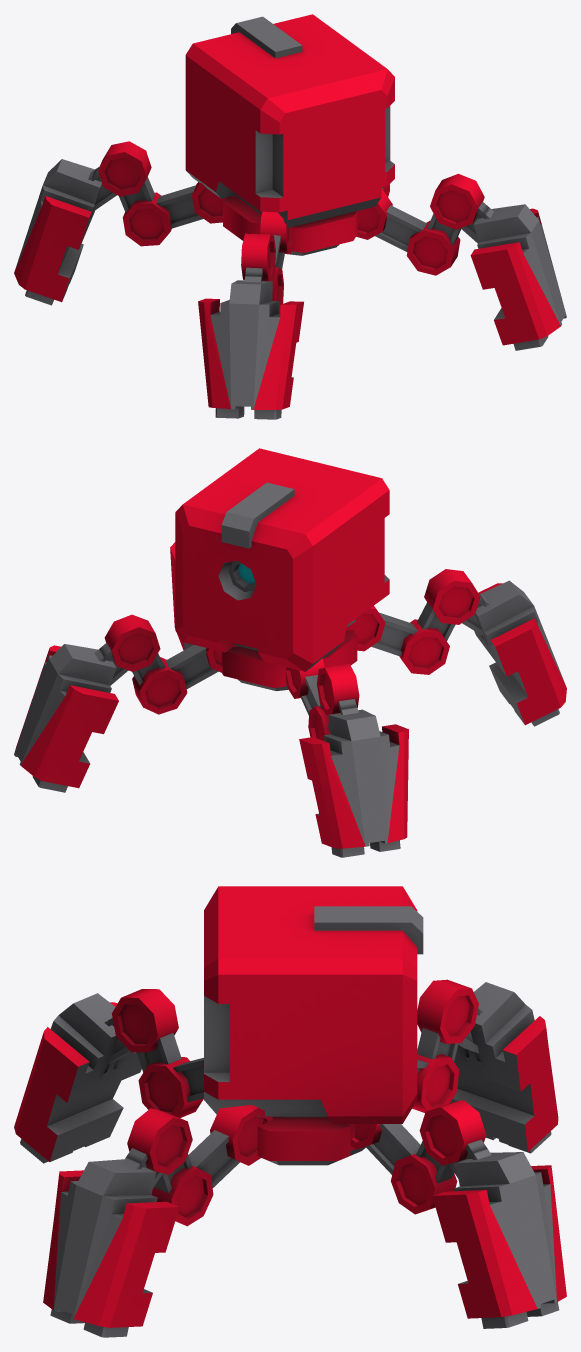
The model's file is Monster1_Idle9.obj.
3 renders of one model, top to bottom at view 1: azimuth 30°, elevation 25°; view 2: azimuth 150°, elevation 25°; view 3: azimuth 270°, elevation 25°, orthographic. The views are drawn at different scales.
Parts seen in each view (by area): view 1: Box006, Object021, Object017, Object025, Object020, Object028, Object027, Object019, Object018, Object026, Object024, Object022; view 2: Box006, Object025, Object013, Object021, Object016, Object024, Object023, Object015, Object022, Object028, Object014, Object026 (+1 smaller); view 3: Box006, Object017, Object013, Object021, Object025, Object018, Object024, Object016, Object020, Object028, Object023, Object015 (+4 smaller).
Boxes of the visible parts, <box> form: Box006: <box>185,14,394,255</box>; Object021: <box>198,280,303,419</box>; Object017: <box>470,204,566,350</box>; Object025: <box>14,159,101,305</box>; Object020: <box>430,173,493,243</box>; Object028: <box>88,141,151,211</box>; Object027: <box>119,177,171,246</box>; Object019: <box>406,214,460,275</box>; Object018: <box>356,189,426,251</box>; Object026: <box>156,182,236,228</box>; Object024: <box>241,233,275,282</box>; Object022: <box>260,211,292,268</box>; Box006: <box>175,448,389,691</box>; Object025: <box>299,709,408,857</box>; Object013: <box>14,644,118,792</box>; Object021: <box>474,580,566,726</box>; Object016: <box>94,614,160,685</box>; Object024: <box>424,569,489,636</box>; Object023: <box>399,602,455,674</box>; Object015: <box>132,653,187,714</box>; Object022: <box>346,606,417,656</box>; Object028: <box>317,664,359,715</box>; Object014: <box>165,645,237,688</box>; Object026: <box>286,658,324,715</box>; Box006: <box>204,886,423,1165</box>; Object017: <box>43,1159,179,1337</box>; Object013: <box>432,1152,566,1328</box>; Object021: <box>14,993,141,1163</box>; Object025: <box>449,982,558,1153</box>; Object018: <box>188,1105,272,1187</box>; Object024: <box>104,989,178,1064</box>; Object016: <box>419,1100,491,1178</box>; Object020: <box>122,1108,192,1187</box>; Object028: <box>417,979,482,1053</box>; Object023: <box>136,1033,203,1117</box>; Object015: <box>391,1141,457,1214</box>.
Size of the model in its own units: 151 by 98.9 by 153.
